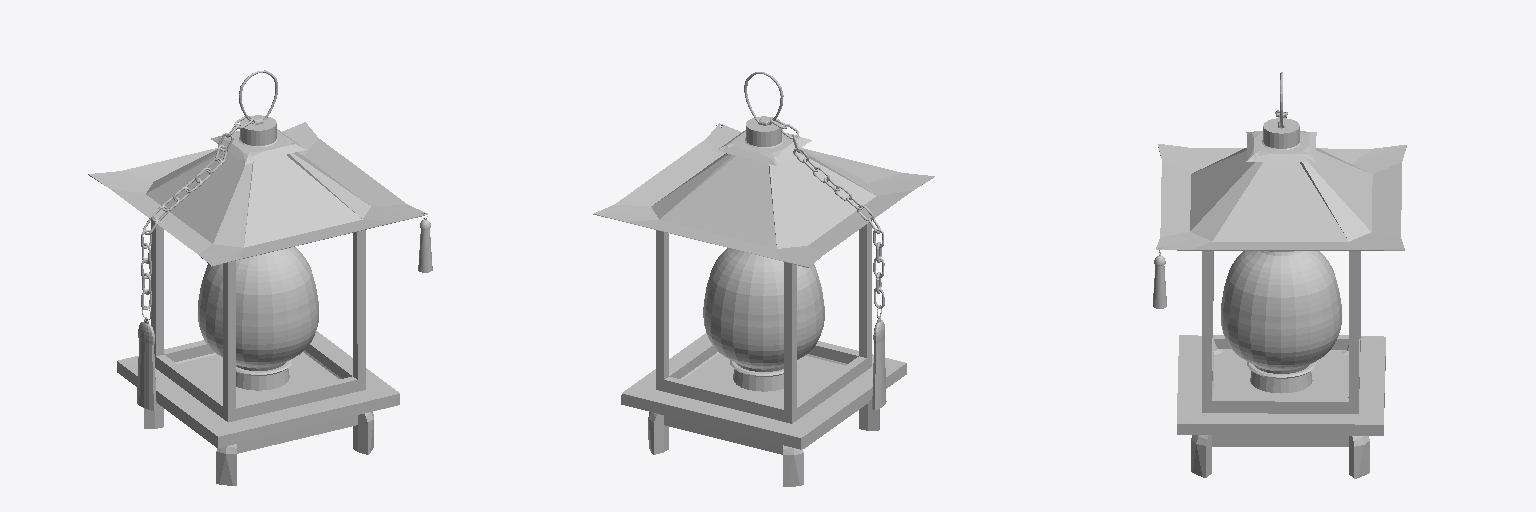
Rendered from lantern.obj.
The picture shows the model from 3 angles: view 1: azimuth 30°, elevation 25°; view 2: azimuth 150°, elevation 25°; view 3: azimuth 270°, elevation 25°; orthographic projection.
Parts seen in each view (by area): view 1: lantern; view 2: lantern; view 3: lantern.
Boxes of the visible parts, box(x1,y1,x2,y2) form: lantern: box(88, 70, 432, 485); lantern: box(593, 72, 934, 486); lantern: box(1153, 72, 1406, 478).
Size of the model in its own units: 0.1689 by 0.2561 by 0.161.